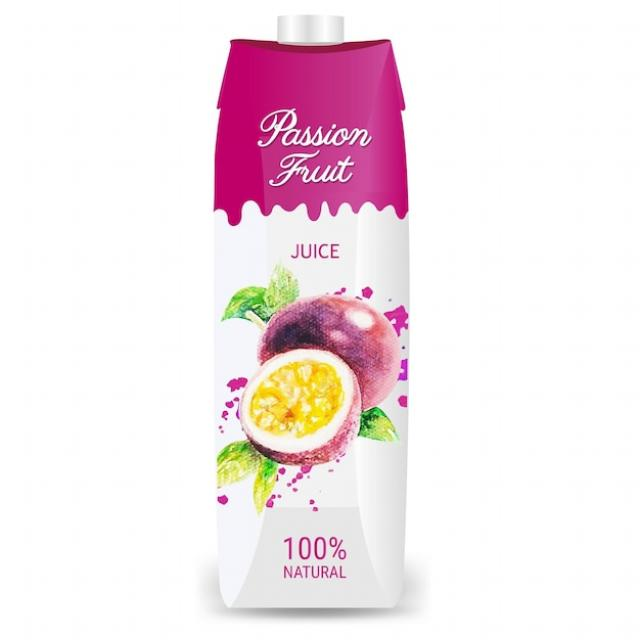non_white_jug: (198, 15, 414, 612)
